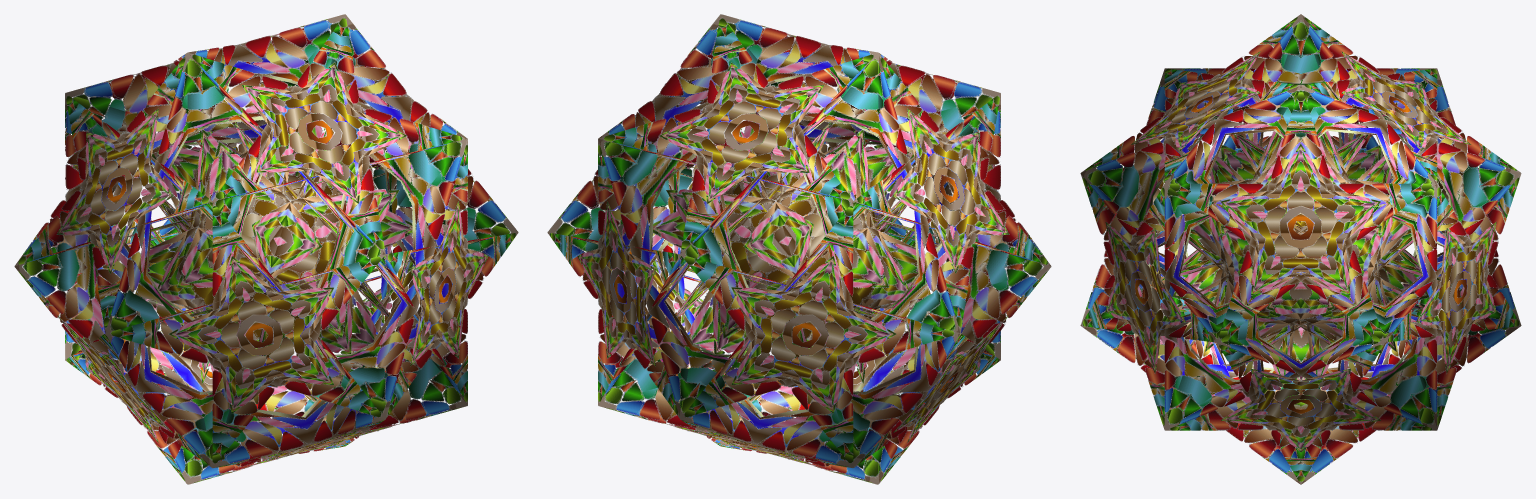
The model's file is DitrigonalDodecadodecahedron15.gltf.
The picture shows the model from 3 angles, left to right: view 1: azimuth 30°, elevation 25°; view 2: azimuth 150°, elevation 25°; view 3: azimuth 270°, elevation 25°; orthographic projection. The views are drawn at different scales.
Visible parts, largest first — view 1: DitrigonalDodecadodecahedron15; view 2: DitrigonalDodecadodecahedron15; view 3: DitrigonalDodecadodecahedron15.
Boxes of the visible parts, x1,y1,x2,y2 form: DitrigonalDodecadodecahedron15: (14, 14, 518, 484); DitrigonalDodecadodecahedron15: (547, 14, 1051, 484); DitrigonalDodecadodecahedron15: (1080, 14, 1521, 484).
Size of the model in its own units: 1.62 by 1.62 by 1.62.
1 material, 1 textured.
